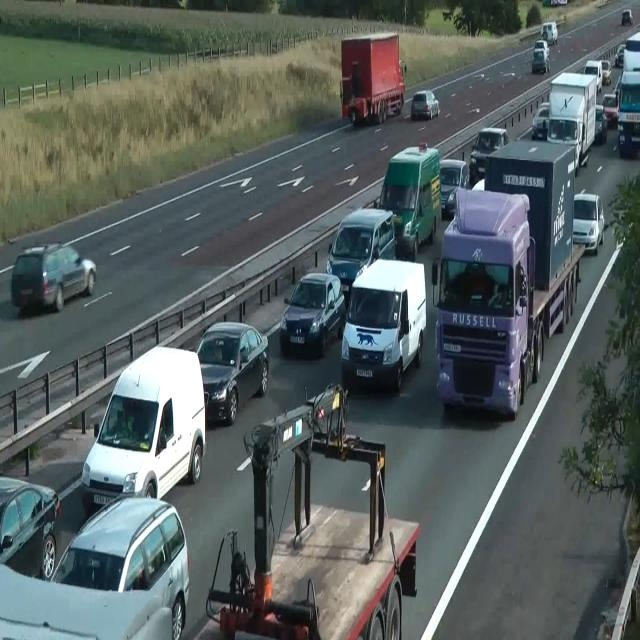bus: (195, 320, 269, 427), (0, 475, 61, 581), (279, 271, 346, 358), (572, 190, 604, 254), (439, 158, 469, 219), (410, 89, 440, 120), (532, 102, 550, 140), (583, 60, 603, 94), (602, 92, 618, 128), (594, 104, 607, 144), (531, 49, 547, 74), (533, 39, 549, 61), (613, 72, 622, 108), (600, 59, 612, 85), (615, 44, 625, 66), (622, 9, 634, 26)
car: (204, 381, 420, 638)
jeep: (48, 488, 190, 639), (80, 343, 206, 509), (340, 257, 426, 393), (325, 206, 396, 302), (10, 241, 96, 314), (468, 125, 508, 184), (540, 20, 558, 44)
minibus: (431, 137, 585, 419), (483, 138, 575, 292), (378, 141, 442, 257), (340, 31, 406, 126), (547, 71, 597, 176), (616, 68, 640, 158), (623, 31, 639, 71), (542, 0, 568, 6)
